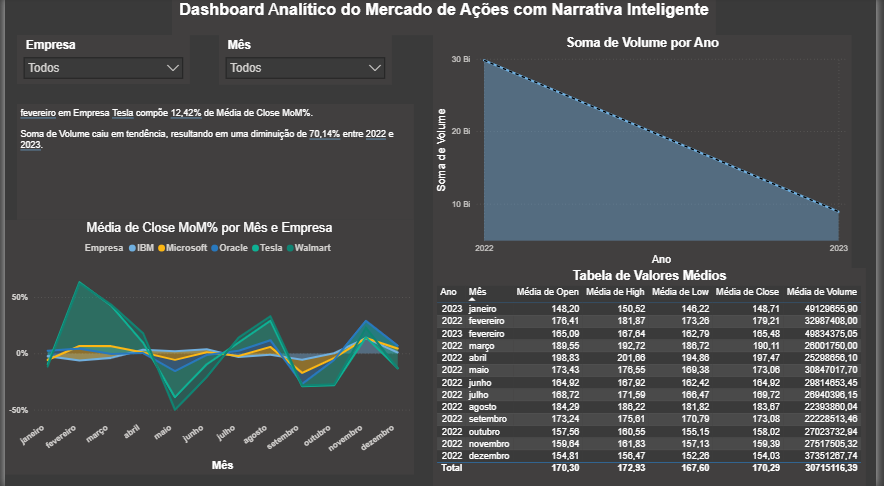

What the dashboard file says about the page in this screenshot:
{"tool":"powerbi","page":{"name":"Página 1","canvas":[1280,720],"ordinal":0},"visuals":[{"type":"areaChart","fields":{"Category":["StockMarket.Data.Variation.Hierarquia de datas.Ano","StockMarket.Data.Variation.Hierarquia de datas.Trimestre","StockMarket.Data.Variation.Hierarquia de datas.Mês","StockMarket.Data.Variation.Hierarquia de datas.Dia"],"Y":["Sum(StockMarket.Volume)"]},"box":[629.3,55.4,615,343.2],"z":0},{"type":"tableEx","title":"Tabela de Valores Médios","fields":{"Values":["StockMarket.Data.Variation.Hierarquia de datas.Ano","StockMarket.Data.Variation.Hierarquia de datas.Mês","Avg(StockMarket.Open)","Avg(StockMarket.High)","Avg(StockMarket.Low)","Avg(StockMarket.Close)","Avg(StockMarket.Volume)"]},"box":[629.3,398.7,636.4,321.8],"z":1000},{"type":"slicer","fields":{"Values":["StockMarket.Empresa"]},"box":[17.9,55.4,253.9,71.5],"z":2000},{"type":"stackedAreaChart","fields":{"Category":["StockMarket.Data.Variation.Hierarquia de datas.Mês"],"Series":["StockMarket.Empresa"],"Y":["StockMarket.Média de Close MoM%"]},"box":[0,327.2,600.7,373.6],"z":3000},{"type":"slicer","fields":{"Values":["StockMarket.Data.Variation.Hierarquia de datas.Mês"]},"box":[314.6,55.4,253.9,73.3],"z":4000},{"type":"textbox","box":[244.9,0,786.6,55.4],"z":5000},{"type":"textbox","box":[17.9,157.3,582.8,169.8],"z":6000}]}

Visuals, with their boxes in screenshot pixels (x1, y1, x2, y2), scaled from the page's 1280x720 canvas onto the 884x486 screenshot:
areaChart - StockMarket.Data.Variation.Hierarquia de datas.Ano x StockMarket.Data.Variation.Hierarquia de datas.Trimestre: [435,37,859,269]
"Tabela de Valores Médios" tableEx: [435,269,874,485]
slicer - StockMarket.Empresa: [12,37,188,86]
stackedAreaChart - StockMarket.Data.Variation.Hierarquia de datas.Mês x StockMarket.Empresa: [0,221,415,473]
slicer - StockMarket.Data.Variation.Hierarquia de datas.Mês: [217,37,393,87]
textbox: [169,0,712,37]
textbox: [12,106,415,221]
